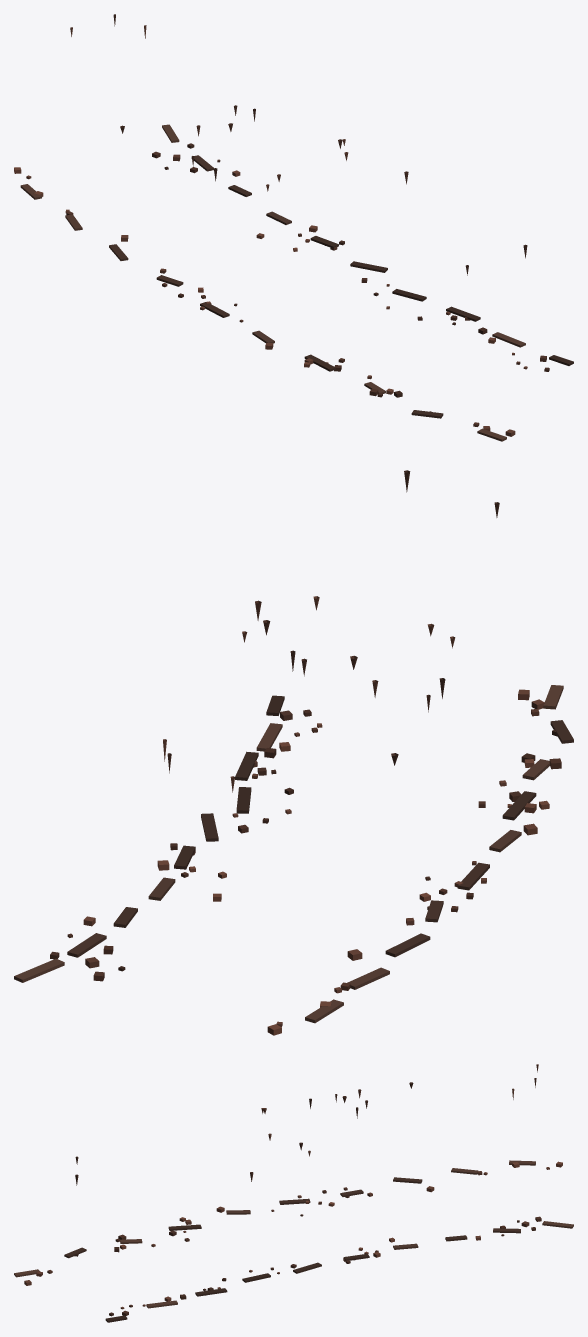
Rendered from lava_tube_run_bend_p30_detail2.glb.
3 renders of one model, top to bottom at view 1: azimuth 30°, elevation 25°; view 2: azimuth 150°, elevation 25°; view 3: azimuth 270°, elevation 25°, orthographic. The views are drawn at different scales.
Parts seen in each view (by area): view 1: lava_tube_run_bend_p30_detail2; view 2: lava_tube_run_bend_p30_detail2; view 3: lava_tube_run_bend_p30_detail2.
Part boxes in pixels (box(x1,y1,x2,y2)): lava_tube_run_bend_p30_detail2: box(14, 14, 573, 441); lava_tube_run_bend_p30_detail2: box(14, 470, 573, 1035); lava_tube_run_bend_p30_detail2: box(14, 1064, 573, 1322).
Bounding box in the file's own units: 21.21 × 14.72 × 43.19.
